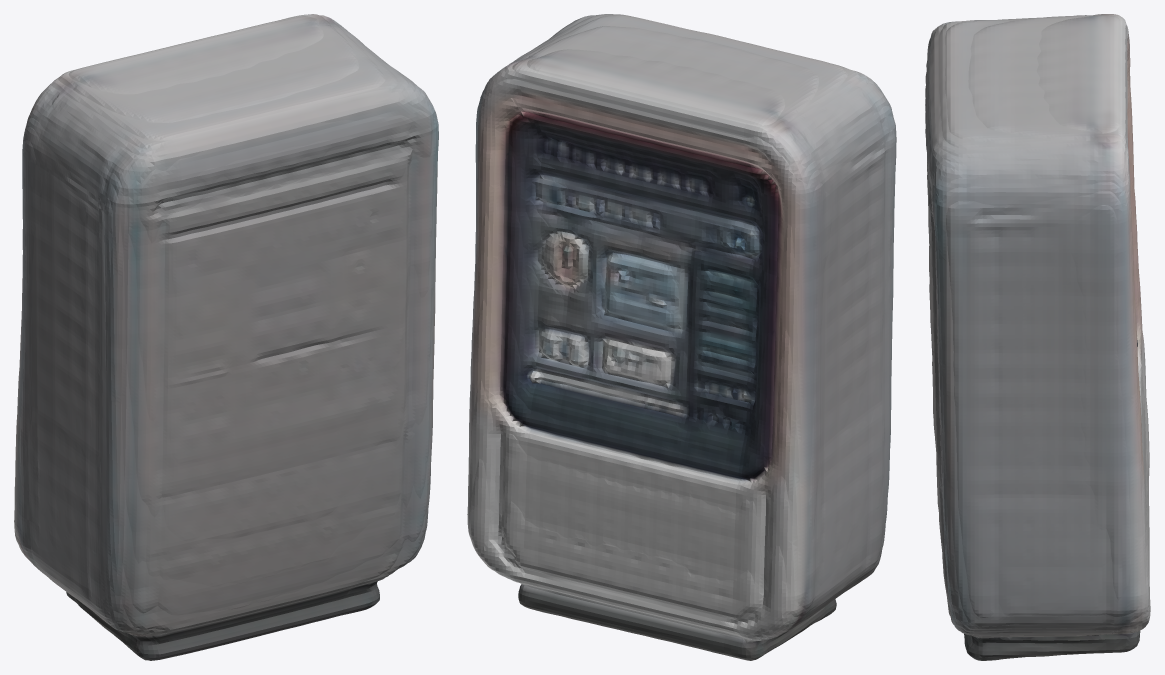
The model's file is room-12-mainstreet-terminal.glb.
The picture shows the model from 3 angles, left to right: view 1: azimuth 30°, elevation 25°; view 2: azimuth 150°, elevation 25°; view 3: azimuth 270°, elevation 25°; orthographic projection. The views are drawn at different scales.
Visible parts, largest first — view 1: world; view 2: world; view 3: world.
Boxes of the visible parts, x1,y1,x2,y2 form: world: [14, 14, 438, 660]; world: [467, 14, 896, 660]; world: [925, 14, 1150, 660].
Bounding box in the file's own units: 0.6565 × 1.01 × 0.3854.
